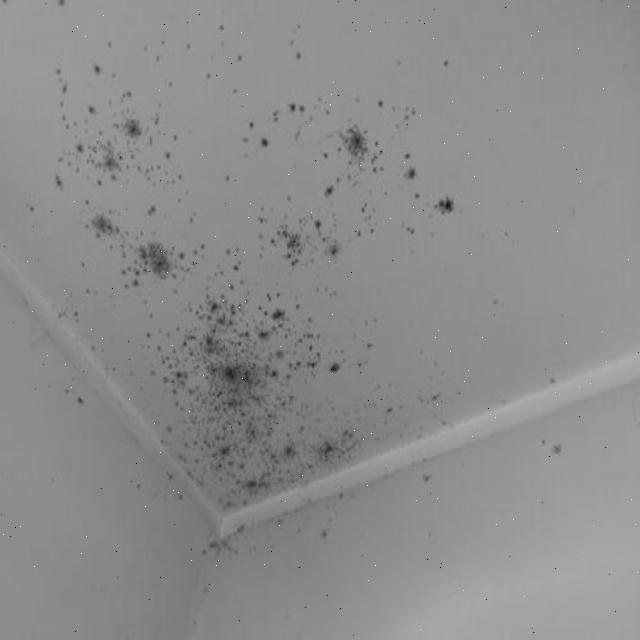stain marks: (0, 0, 629, 578)
